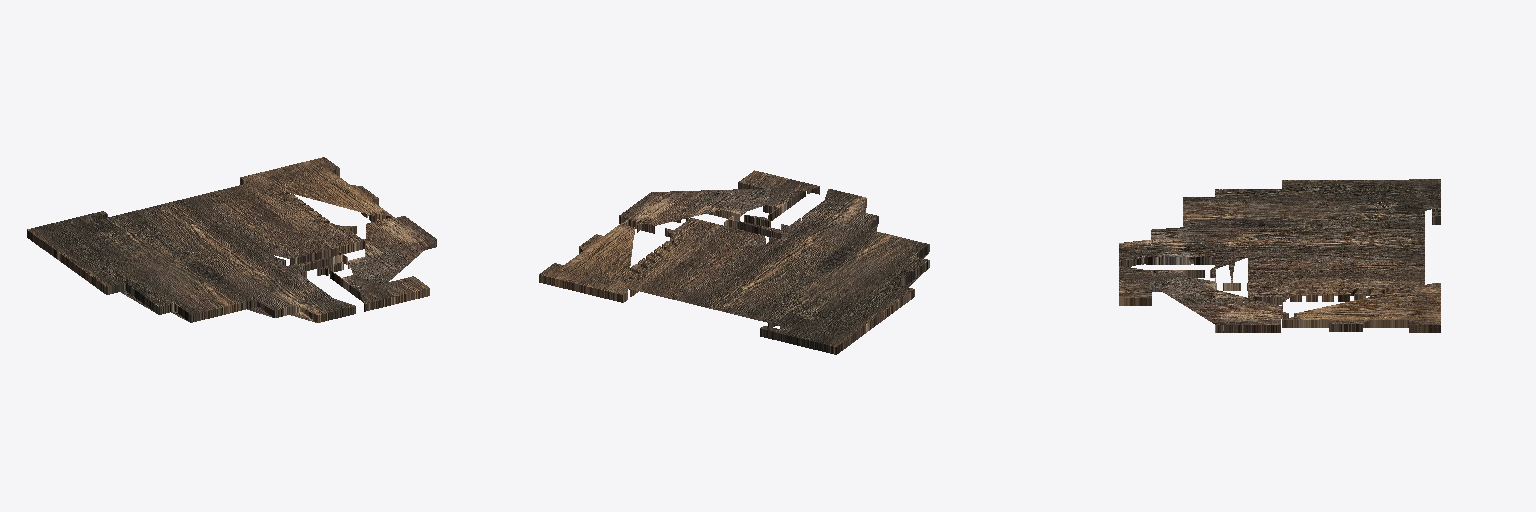
The picture shows the model from 3 angles: view 1: azimuth 30°, elevation 25°; view 2: azimuth 150°, elevation 25°; view 3: azimuth 270°, elevation 25°; orthographic projection.
Visible parts, largest first — view 1: map_prison_layer_outline_bottom; view 2: map_prison_layer_outline_bottom; view 3: map_prison_layer_outline_bottom.
Boxes of the visible parts, box(x1,y1,x2,y2) form: map_prison_layer_outline_bottom: box(27, 157, 436, 322); map_prison_layer_outline_bottom: box(539, 170, 929, 354); map_prison_layer_outline_bottom: box(1119, 179, 1440, 332).
Bounding box in the file's own units: 1.07 × 0.0269 × 1.
Materials: 1 (1 with a texture image).